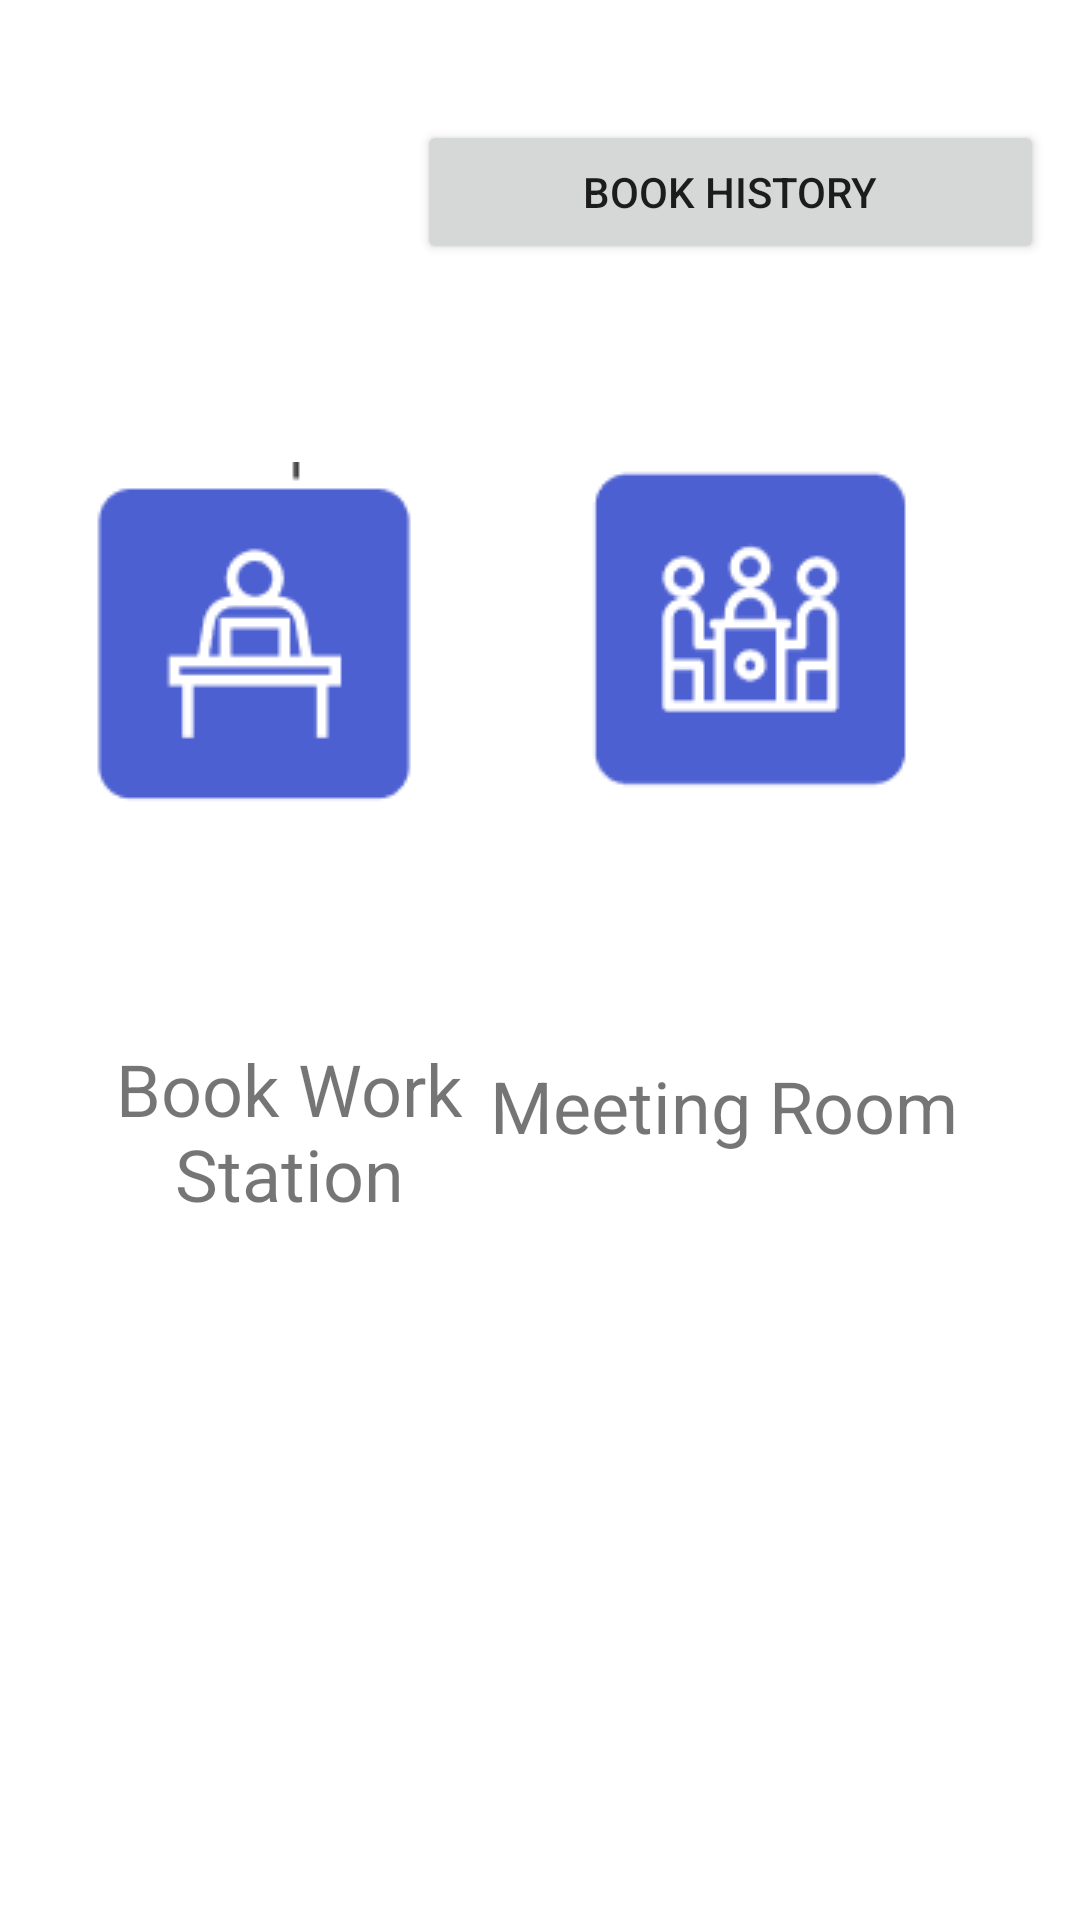

Screen size 1080w x 1920h. Icon name, then its center in pixels as (x=x, y=y):
Book Work Station: (x=254, y=630)
Meeting Room: (x=750, y=628)
